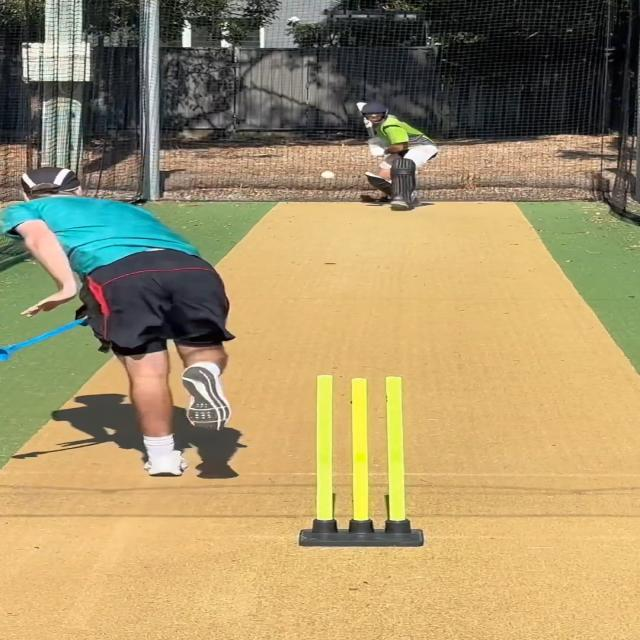Cricket ball: (319, 168, 337, 180)
